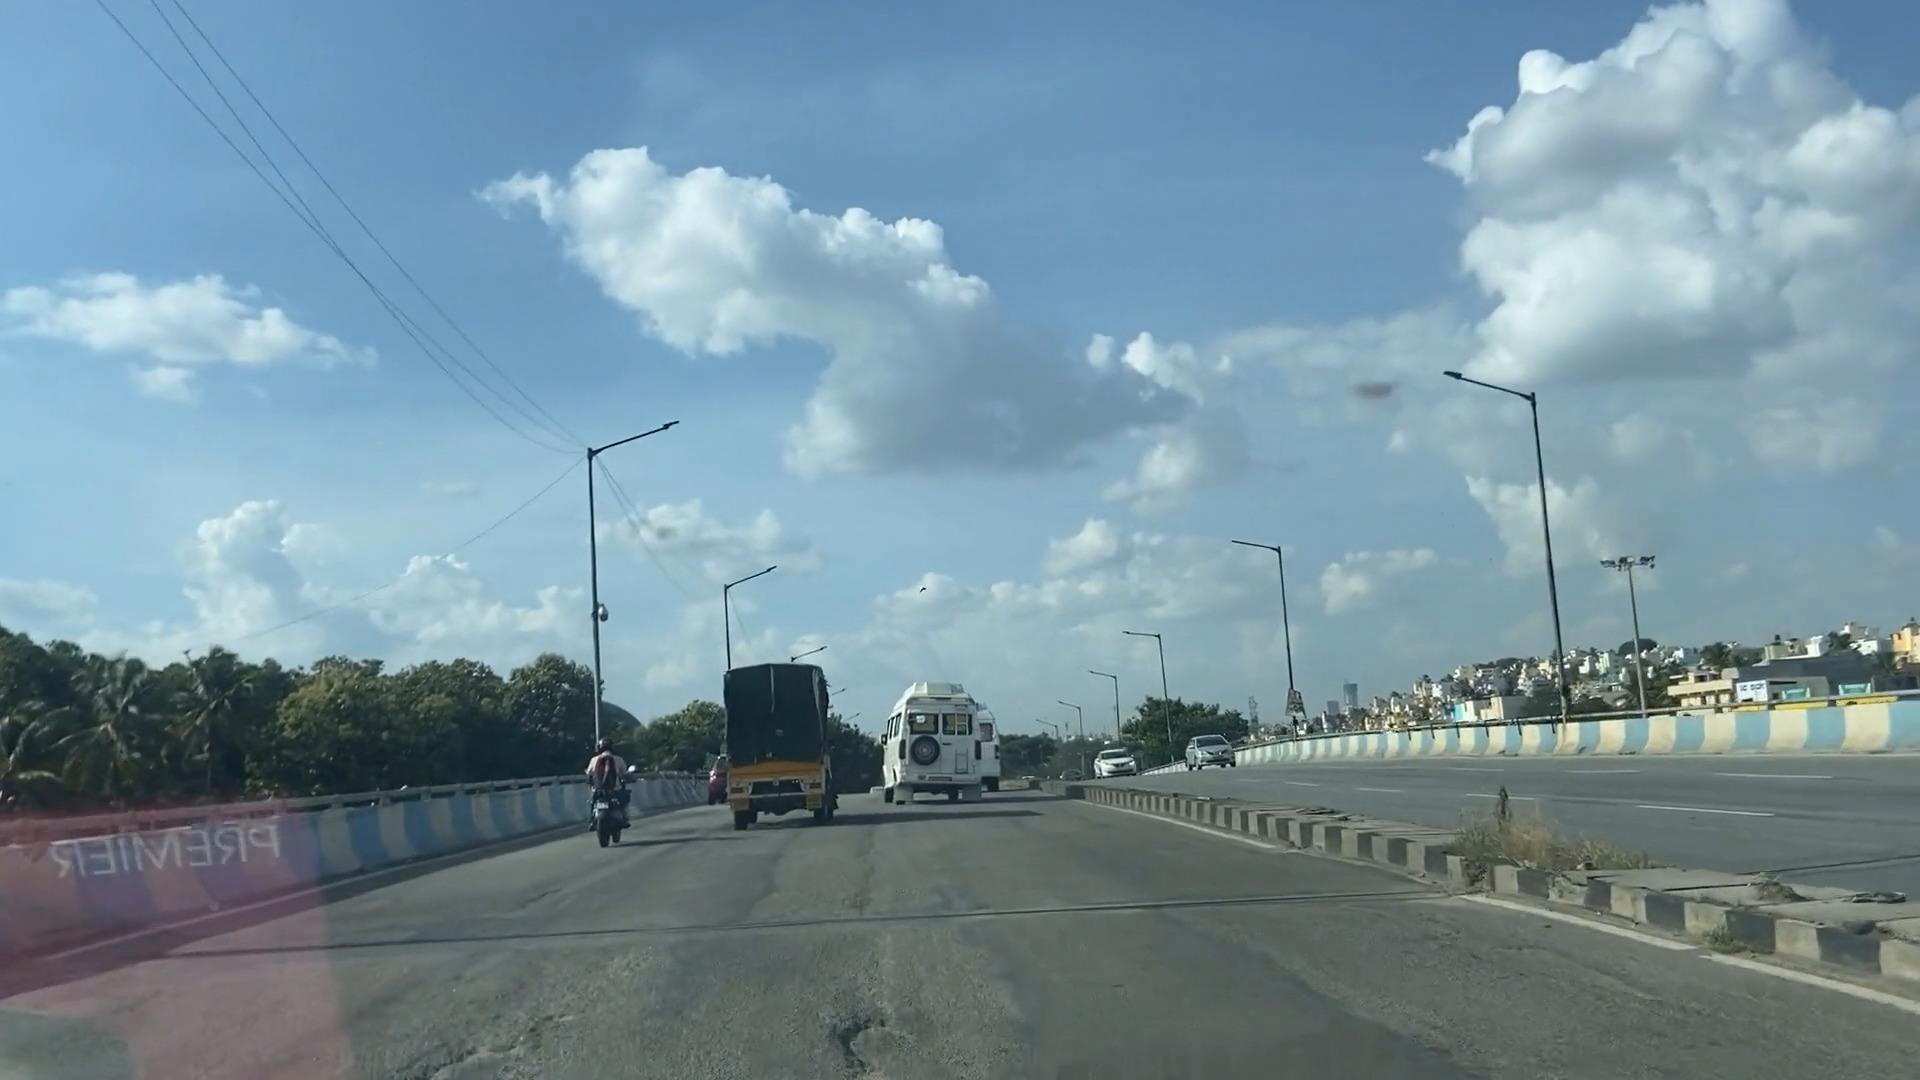HMV: (708, 662, 848, 839), (885, 695, 984, 828)
LMV: (591, 728, 632, 855)
RoadDamages: (1183, 931, 1607, 1080), (405, 968, 597, 1080), (781, 976, 948, 1080), (444, 860, 596, 959)
